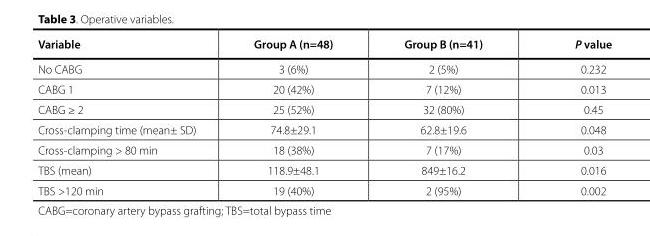table: (37, 36, 611, 197)
table column: (37, 36, 224, 197), (367, 36, 528, 197), (224, 36, 367, 197), (528, 36, 611, 197)
table column header: (37, 36, 611, 56)
table row: (37, 56, 611, 78), (37, 78, 611, 99), (37, 159, 611, 180), (37, 36, 611, 56), (37, 99, 611, 119), (37, 119, 611, 139), (37, 139, 611, 159), (37, 180, 611, 197)
